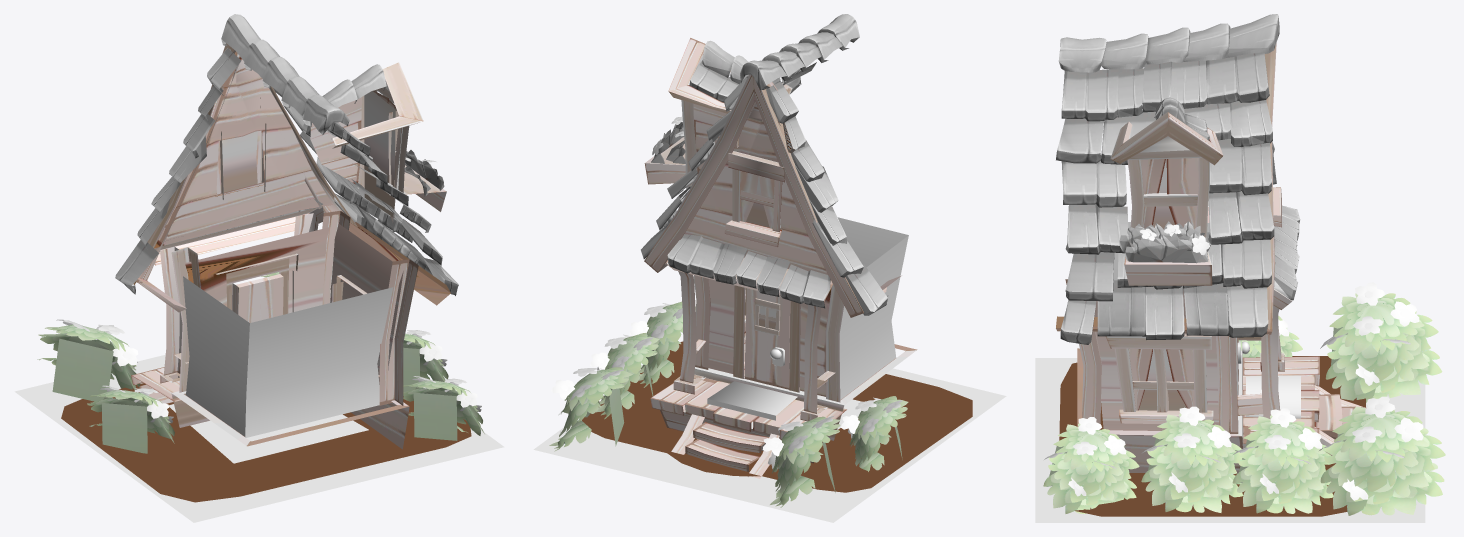
Rendered from HouseVillage1_270.fbx.
3 renders of one model, left to right at view 1: azimuth 30°, elevation 25°; view 2: azimuth 150°, elevation 25°; view 3: azimuth 270°, elevation 25°, orthographic. The views are drawn at different scales.
Visible parts, largest first — view 1: Main, FarmerHouseShadow006, 6x6Plane, BushSmallBlue (×3), BushSmallGreen; view 2: Main, FarmerHouseShadow006, BushSmallBlue (×4), 6x6Plane, BushSmallGreen; view 3: Main, BushSmallBlue (×4), BushSmallGreen (×2), 6x6Plane, FarmerHouseShadow006, Flower2 (1) (×2), Flower2 (2).
Part boxes in pixels (<box>): Main: <box>115,14,458,449</box>; FarmerHouseShadow006: <box>61,383,471,502</box>; 6x6Plane: <box>14,354,504,522</box>; BushSmallBlue (×3): <box>37,324,448,453</box>; BushSmallGreen: <box>403,380,484,440</box>; Main: <box>641,14,917,478</box>; FarmerHouseShadow006: <box>582,341,972,492</box>; BushSmallBlue (×4): <box>549,301,908,507</box>; 6x6Plane: <box>533,340,1006,522</box>; BushSmallGreen: <box>596,333,659,419</box>; Main: <box>1056,14,1366,473</box>; BushSmallBlue (×4): <box>1141,293,1445,515</box>; BushSmallGreen (×2): <box>1043,415,1333,514</box>; 6x6Plane: <box>1035,358,1425,522</box>; FarmerHouseShadow006: <box>1059,356,1365,516</box>; Flower2 (1) (×2): <box>1390,301,1423,441</box>; Flower2 (2): <box>1355,282,1384,305</box>.
Bounding box in the file's own units: 4.29 × 5.18 × 4.46.
